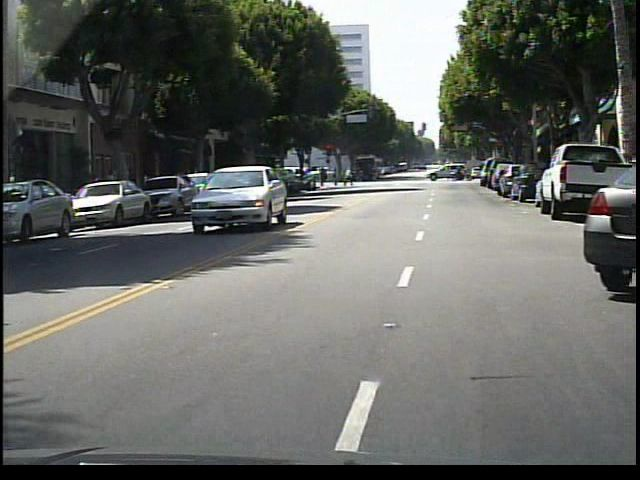person: (338, 163, 358, 192)
